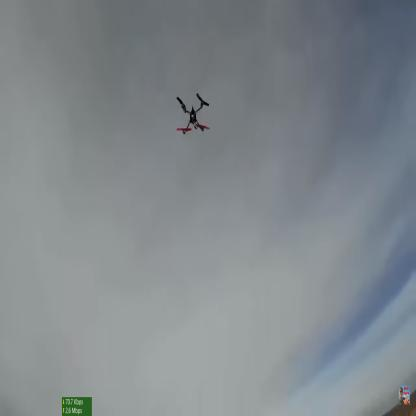drone: (174, 87, 213, 142)
